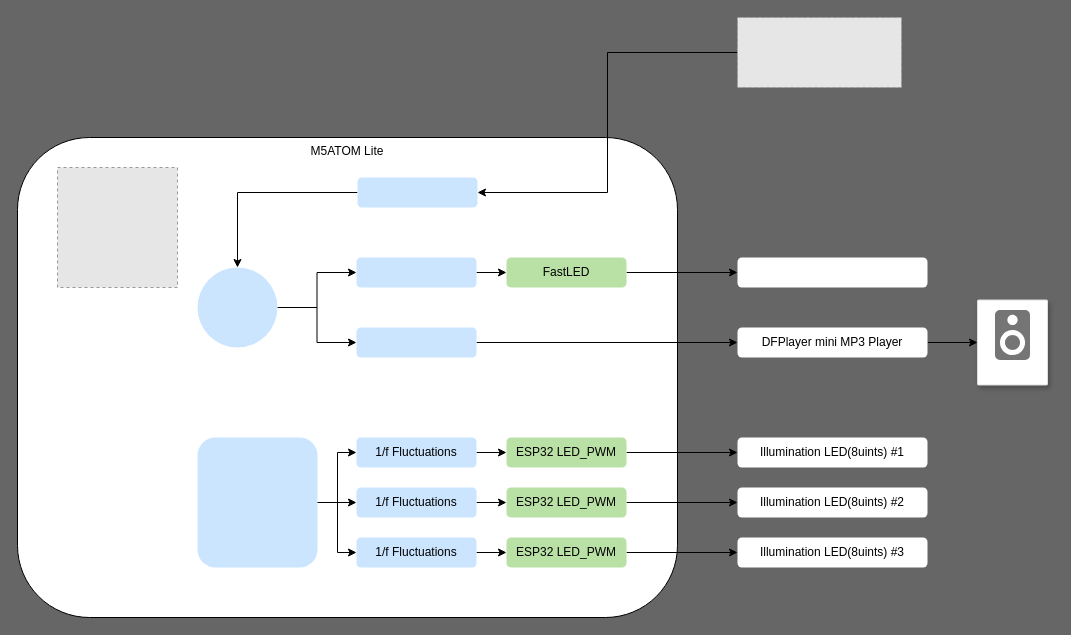
Image size: 1071x635. Some labels were removed from this diagram. Grey dashed boxes stand in for pictures. Each missing label, with the centre of its shape:
"Color Selector" belongs at pixel 416 272.
"Illumination Timing" belongs at pixel 257 502.
"SE Selector" belongs at pixel 416 342.
"Speaker" belongs at pixel 1013 343.
"Weather Status LED(WS2812B)" belongs at pixel 832 272.
"WiFi" belongs at pixel 417 192.
